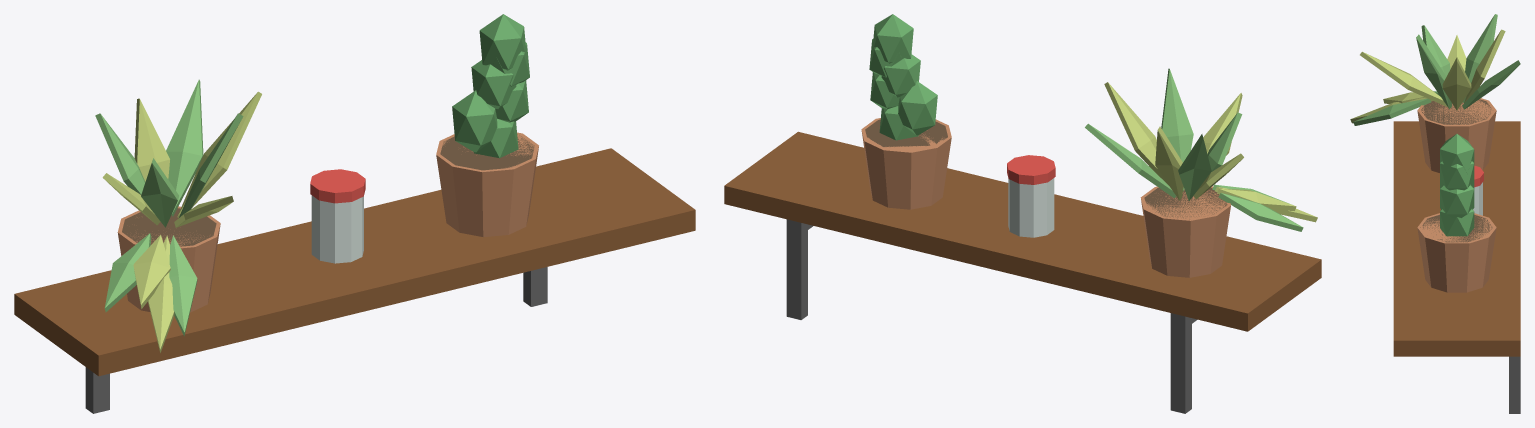
File: wall_shelf_plants.glb
3 views of the same model, side by side, from view 1: azimuth 30°, elevation 25°; view 2: azimuth 150°, elevation 25°; view 3: azimuth 270°, elevation 25° (orthographic). The views are drawn at different scales.
Visible parts, largest first — view 1: wall_shelf_plants; view 2: wall_shelf_plants; view 3: wall_shelf_plants.
Part boxes in pixels (x1,y1,x2,y2): wall_shelf_plants: [14, 14, 695, 413]; wall_shelf_plants: [724, 14, 1321, 413]; wall_shelf_plants: [1350, 14, 1520, 413].
Size of the model in its own units: 0.9 by 0.4805 by 0.2954.
